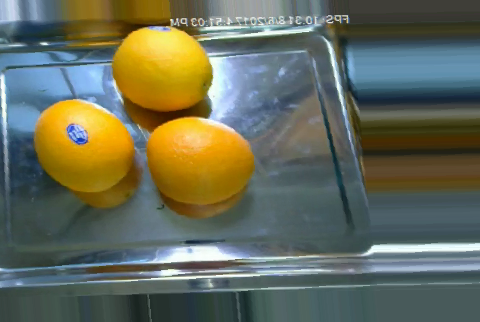Orange: (144, 114, 255, 205), (34, 97, 134, 192), (111, 25, 213, 111)
